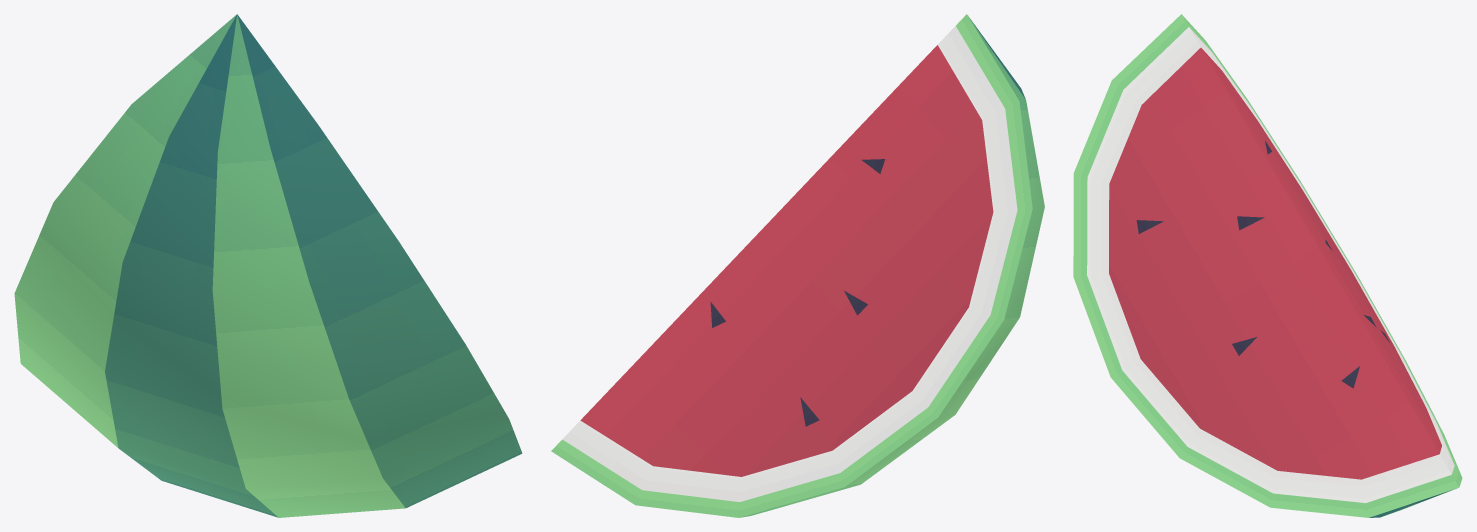
File: watermelon_cutted.glb
3 renders of one model, left to right at view 1: azimuth 30°, elevation 25°; view 2: azimuth 150°, elevation 25°; view 3: azimuth 270°, elevation 25°, orthographic. The views are drawn at different scales.
Visible parts, largest first — view 1: mesh_watermelon_cut_01 - Default.001_0; view 2: mesh_watermelon_cut_01 - Default.001_0; view 3: mesh_watermelon_cut_01 - Default.001_0.
Part boxes in pixels (x1,y1,x2,y2): mesh_watermelon_cut_01 - Default.001_0: [14, 14, 522, 517]; mesh_watermelon_cut_01 - Default.001_0: [551, 14, 1044, 517]; mesh_watermelon_cut_01 - Default.001_0: [1073, 14, 1462, 517].
Size of the model in its own units: 141 by 166 by 141.
1 material, 1 textured.
